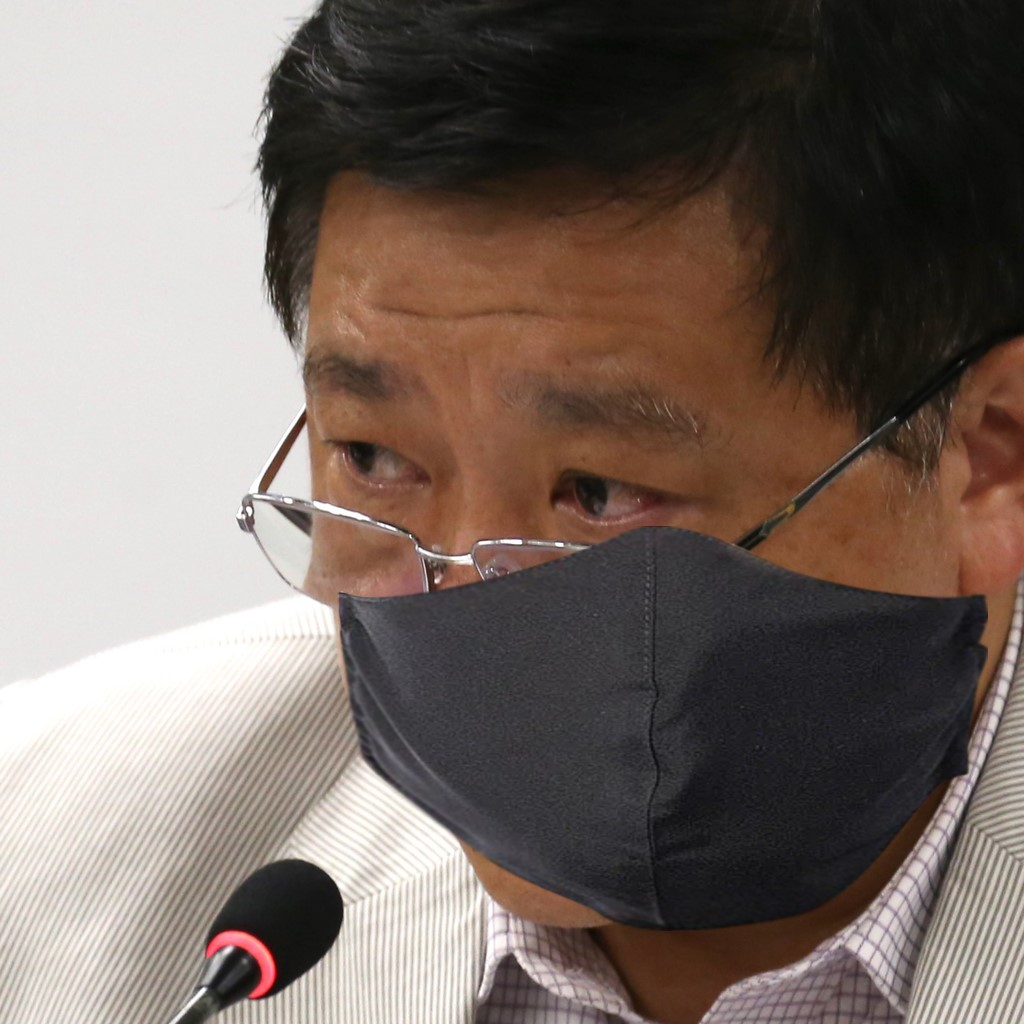con_mascara: (282, 141, 950, 939)
